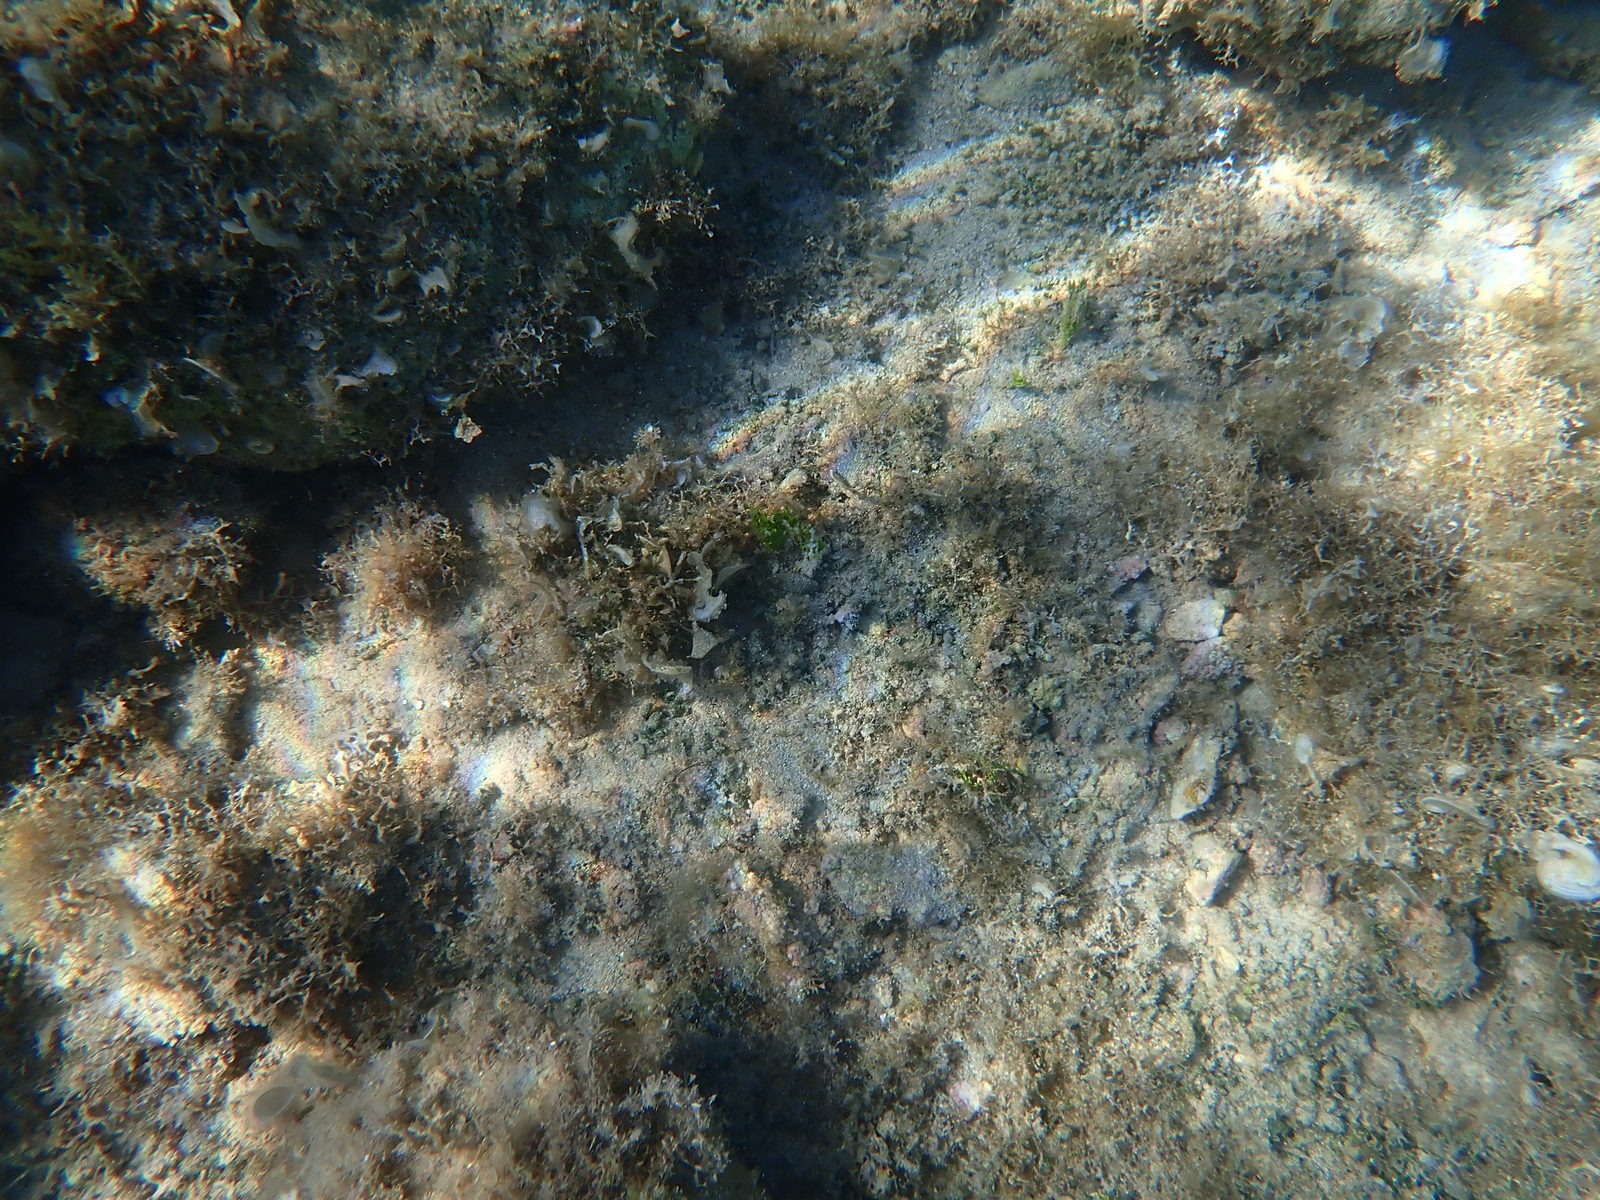halimeda: (747, 505, 813, 560), (1062, 280, 1090, 344), (1009, 371, 1029, 389), (979, 759, 997, 780), (960, 771, 973, 785), (1032, 296, 1038, 304), (1046, 292, 1049, 300)
